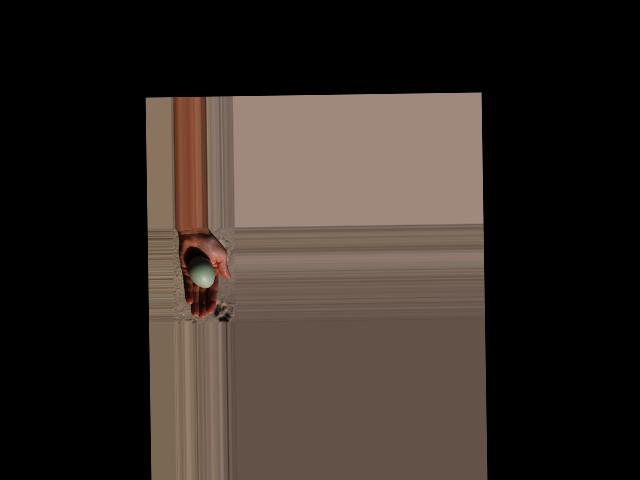egg: (187, 256, 214, 289)
